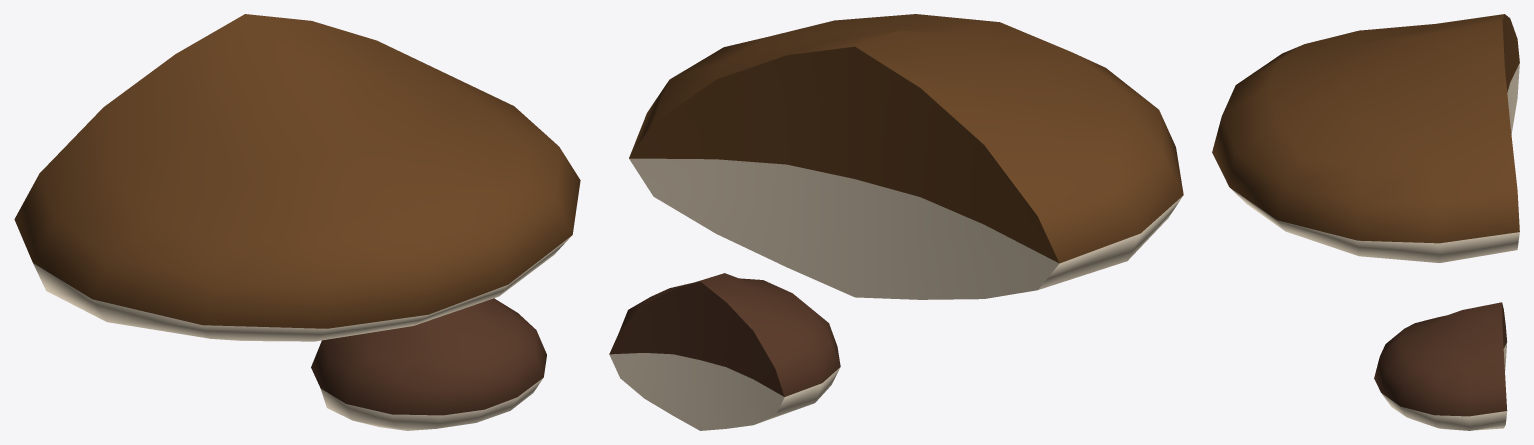
The model's file is Artists_Conk_Group_1.fbx.
3 views of the same model, side by side, from view 1: azimuth 30°, elevation 25°; view 2: azimuth 150°, elevation 25°; view 3: azimuth 270°, elevation 25° (orthographic). The views are drawn at different scales.
Visible parts, largest first — view 1: Artists_Conk_Group_1; view 2: Artists_Conk_Group_1; view 3: Artists_Conk_Group_1.
Part boxes in pixels (x1,y1,x2,y2): Artists_Conk_Group_1: [14, 14, 580, 430]; Artists_Conk_Group_1: [609, 14, 1183, 430]; Artists_Conk_Group_1: [1212, 14, 1519, 430].
Bounding box in the file's own units: 56.78 × 45.49 × 37.22.
1 material, 1 textured.
